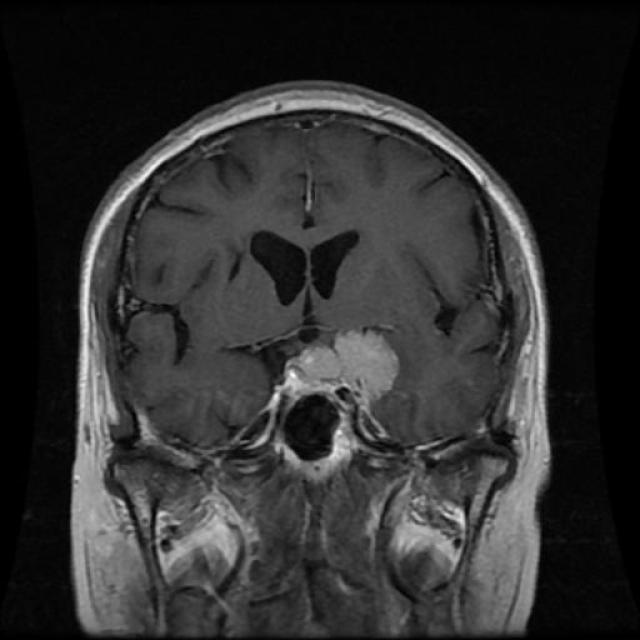meningioma: (335, 330, 401, 408)
